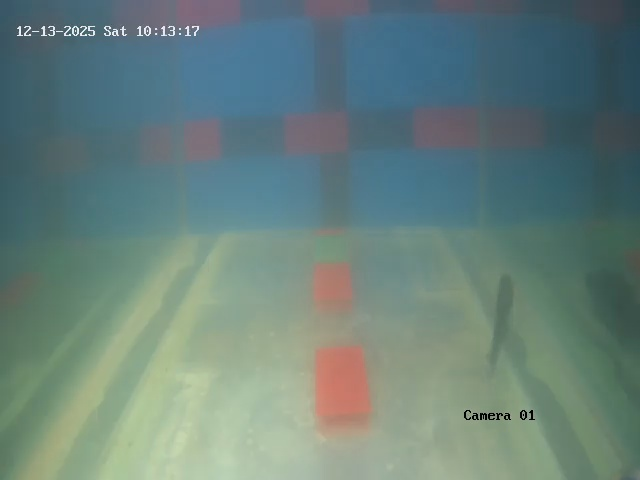fish: (480, 271, 517, 396)
